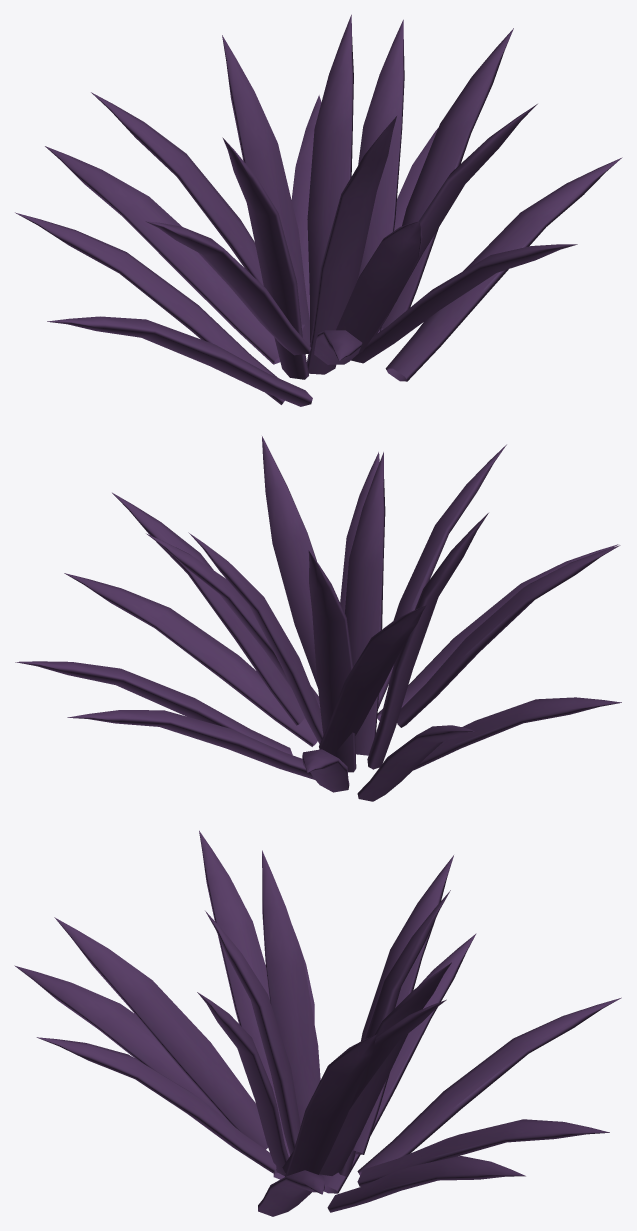
The model's file is plant.fbx.
3 renders of one model, top to bottom at view 1: azimuth 30°, elevation 25°; view 2: azimuth 150°, elevation 25°; view 3: azimuth 270°, elevation 25°, orthographic. The views are drawn at different scales.
Parts seen in each view (by area): view 1: pCone38; view 2: pCone38; view 3: pCone38.
Part boxes in pixels (x1,y1,x2,y2): pCone38: (15,14,622,406); pCone38: (15,436,621,801); pCone38: (14,830,621,1216).
Size of the model in its own units: 9.44 by 4.89 by 8.76.
